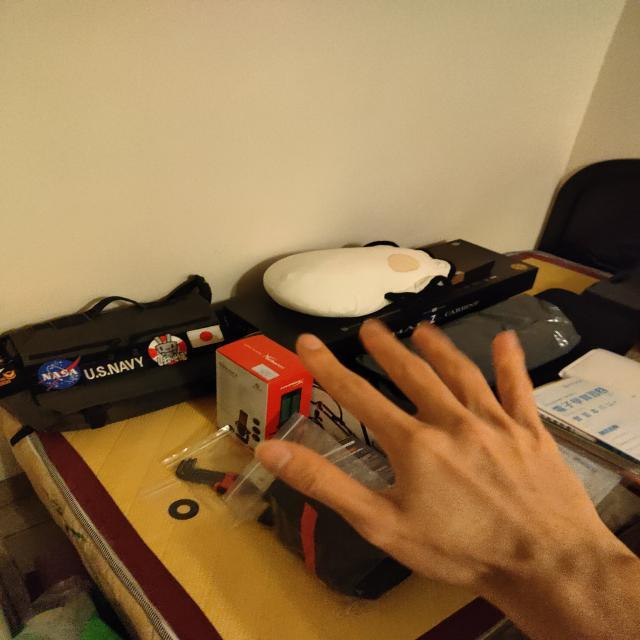Hand: (248, 317, 640, 640)
